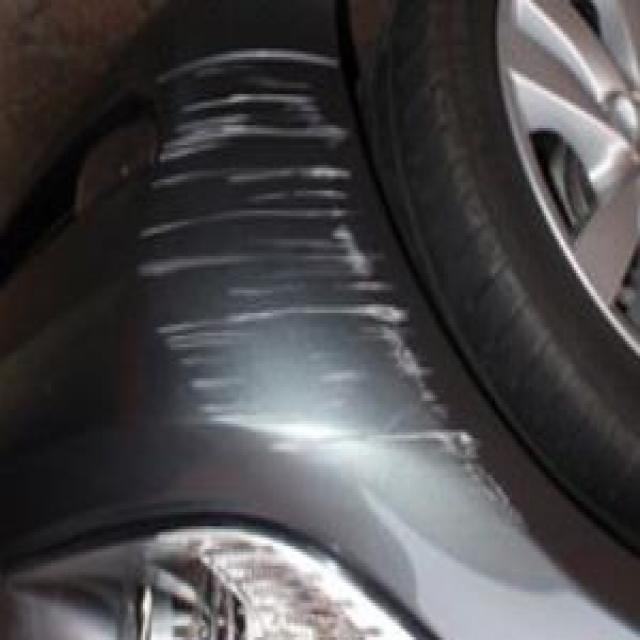scratch: (127, 75, 509, 562)
